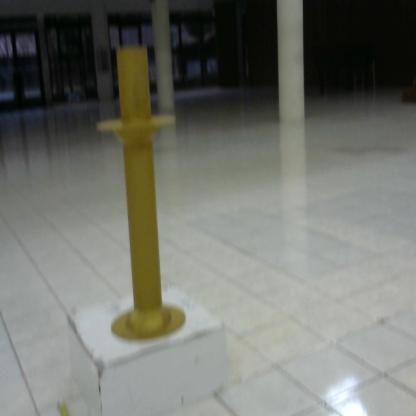pole: (91, 41, 191, 349)
